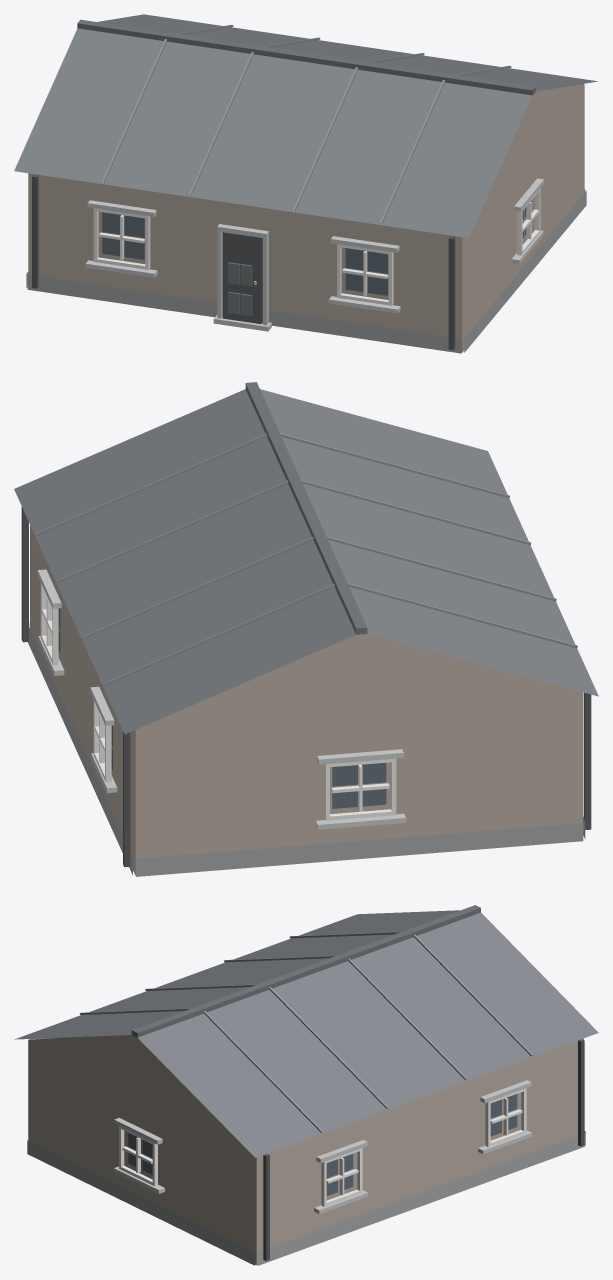
3 views of the same model, one above another, from view 1: azimuth 30°, elevation 25°; view 2: azimuth 150°, elevation 25°; view 3: azimuth 270°, elevation 25° (orthographic). The views are drawn at different scales.
Visible parts, largest first — view 1: slate, harl_brown, plinth, stone_band, slate_dk, frame, slate_lt, door_dark, pipe, door_dark_p; view 2: slate, harl_brown, plinth, slate_lt, frame, slate_dk, pipe, stone_band; view 3: slate, harl_brown, plinth, slate_dk, slate_lt, frame, stone_band, pipe.
Part boxes in pixels (x1,y1,x2,y2): slate: (14, 14, 597, 237); harl_brown: (28, 84, 584, 352); plinth: (26, 189, 586, 353); stone_band: (85, 178, 543, 331); slate_dk: (77, 19, 535, 95); frame: (93, 188, 540, 305); slate_lt: (101, 24, 511, 224); door_dark: (222, 232, 262, 324); pipe: (32, 174, 455, 349); door_dark_p: (228, 262, 252, 316); slate: (14, 389, 598, 734); harl_brown: (30, 525, 582, 875); plinth: (27, 622, 585, 876); slate_lt: (35, 433, 577, 686); frame: (40, 582, 396, 820); slate_dk: (245, 382, 367, 634); pipe: (21, 506, 591, 867); stone_band: (37, 569, 405, 829); slate: (14, 910, 598, 1157); harl_brown: (29, 1035, 583, 1265); plinth: (27, 1131, 585, 1265); slate_dk: (131, 905, 480, 1037); slate_lt: (80, 932, 533, 1132); frame: (119, 1088, 526, 1206); stone_band: (114, 1080, 531, 1213); pipe: (28, 1039, 584, 1260).
Size of the model in its own units: 13.12 by 4.56 by 13.3.
